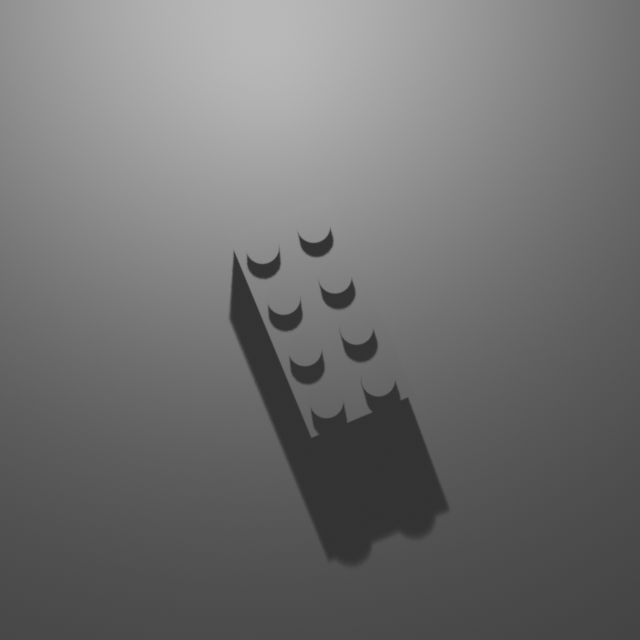lego_2x4: (226, 191, 415, 438)
